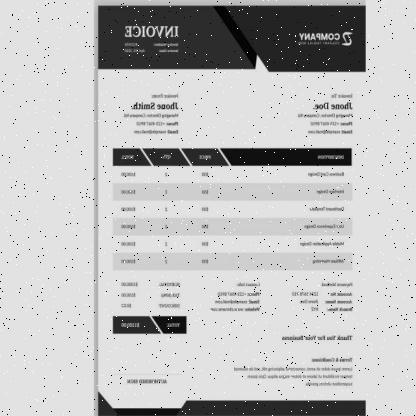Paragraph: (233, 356, 354, 388), (122, 92, 180, 136), (297, 92, 354, 136), (291, 281, 354, 313), (120, 280, 182, 310), (124, 24, 180, 54), (209, 280, 261, 312), (297, 31, 342, 46), (280, 334, 354, 342), (121, 320, 181, 328)
Table: (113, 148, 352, 270)
